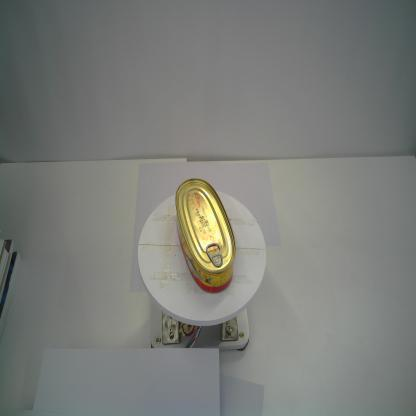Canned Food: (174, 176, 238, 294)
